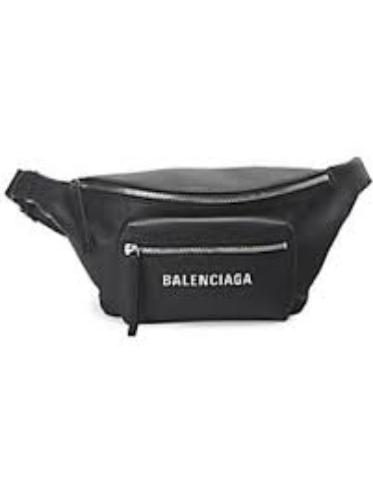BALENCIAGA: (163, 271, 254, 286)
